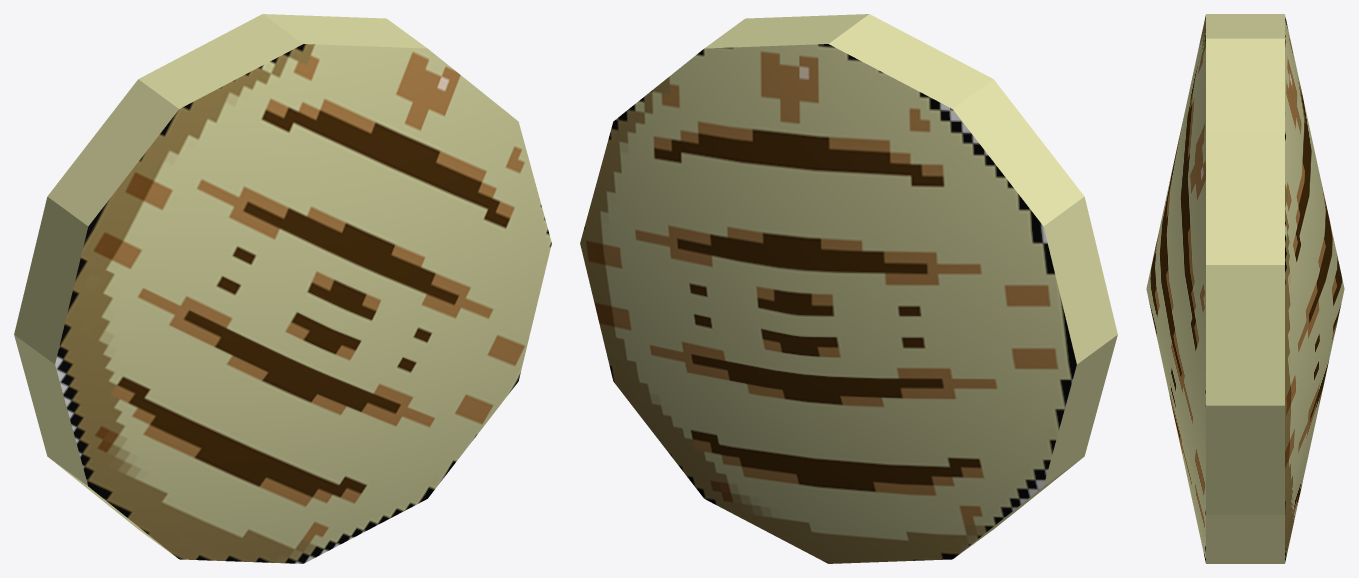
Rendered from arepa.fbx.
3 views of the same model, side by side, from view 1: azimuth 30°, elevation 25°; view 2: azimuth 150°, elevation 25°; view 3: azimuth 270°, elevation 25° (orthographic). The views are drawn at different scales.
Visible parts, largest first — view 1: arepa1; view 2: arepa1; view 3: arepa1.
Boxes of the visible parts, bbox=[...] form: arepa1: bbox=[14, 14, 551, 563]; arepa1: bbox=[580, 14, 1117, 563]; arepa1: bbox=[1146, 14, 1344, 563].
Bounding box in the file's own units: 0.6615 × 0.6615 × 0.2375.
